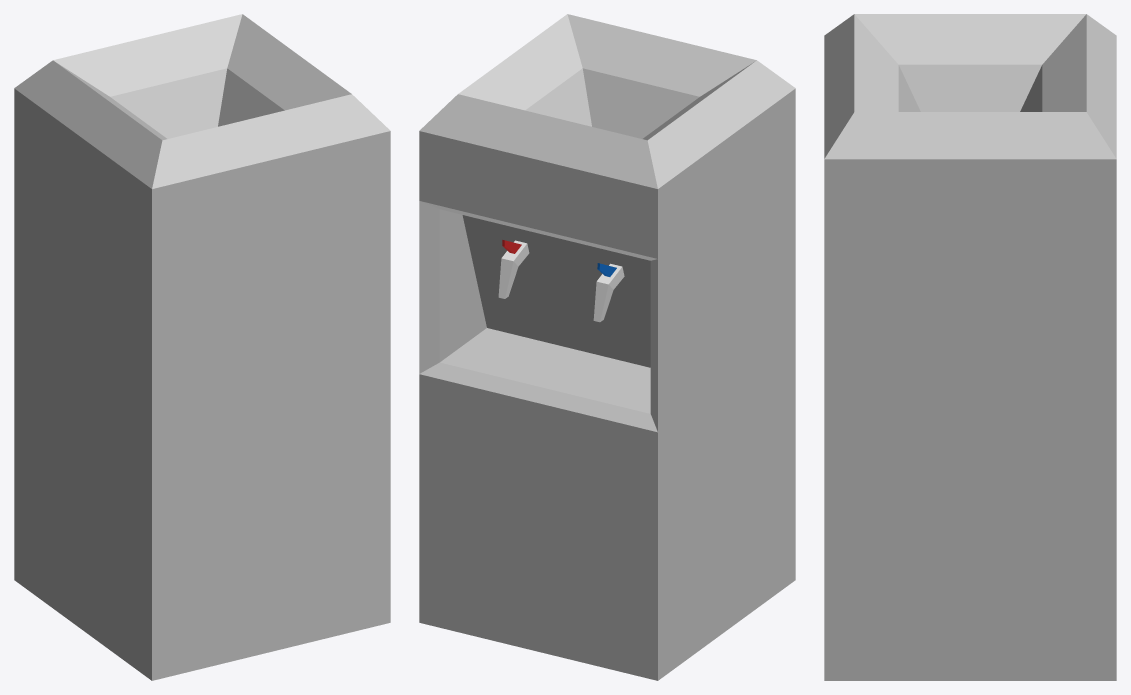
Rendered from cooler.fbx.
3 views of the same model, side by side, from view 1: azimuth 30°, elevation 25°; view 2: azimuth 150°, elevation 25°; view 3: azimuth 270°, elevation 25° (orthographic). The views are drawn at different scales.
Visible parts, largest first — view 1: Cube; view 2: Cube, Cube.001, Cube.002; view 3: Cube.
Boxes of the visible parts, left/top/right/bottom form: Cube: left=14, top=14, right=390, bottom=680; Cube: left=419, top=14, right=795, bottom=680; Cube.001: left=593, top=263, right=624, bottom=322; Cube.002: left=498, top=240, right=529, bottom=298; Cube: left=824, top=14, right=1116, bottom=680.
Size of the model in its own units: 2 by 4.2 by 2.
